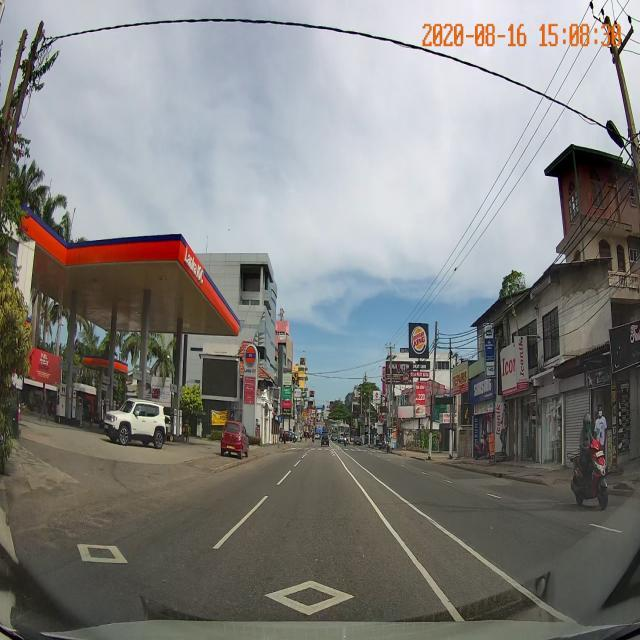diamond: (167, 552, 468, 618)
